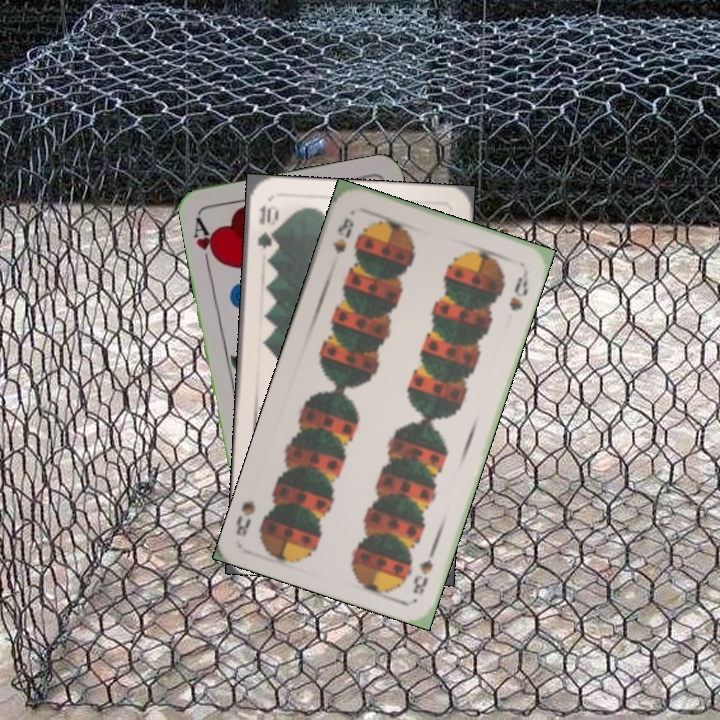G10: (253, 200, 278, 252)
HA: (189, 212, 221, 270)
S8: (409, 542, 439, 598), (328, 213, 357, 256)
